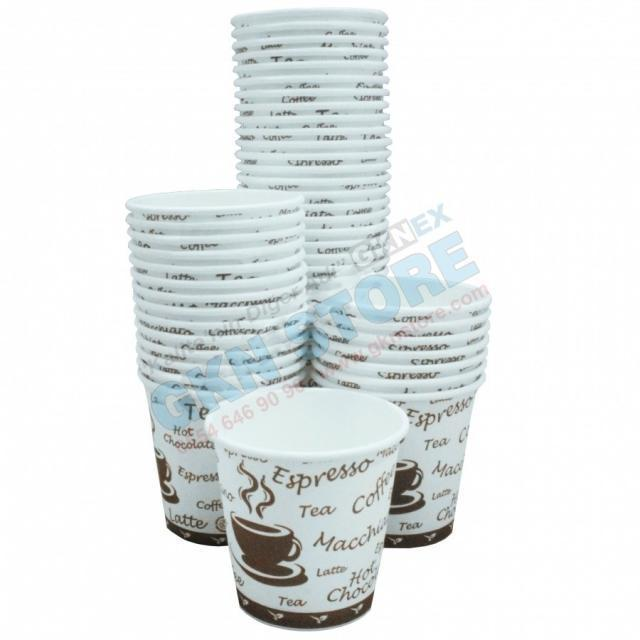trash: (208, 406, 408, 630)
